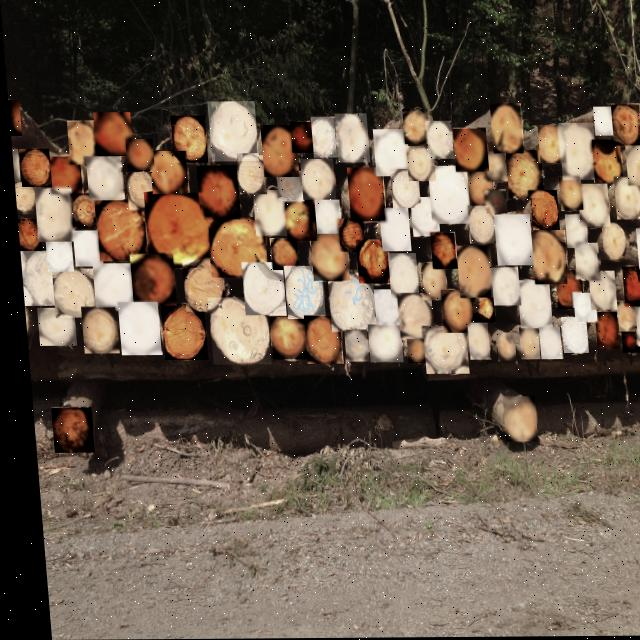wood-log: (143, 194, 208, 267), (205, 298, 264, 365), (206, 218, 263, 278), (94, 200, 142, 261), (207, 102, 255, 161), (324, 274, 370, 332), (426, 167, 469, 224), (157, 304, 200, 360), (238, 263, 280, 316), (127, 255, 170, 306), (114, 302, 155, 355), (196, 167, 235, 220), (180, 260, 219, 312), (49, 269, 91, 317), (33, 189, 71, 242), (418, 327, 461, 373), (281, 266, 318, 319), (18, 251, 53, 306), (491, 215, 528, 266), (560, 124, 593, 181), (346, 169, 381, 221), (453, 246, 488, 298), (89, 264, 128, 310), (529, 231, 562, 285), (46, 408, 86, 452), (260, 126, 294, 177), (307, 234, 344, 280), (170, 116, 205, 163), (301, 317, 336, 364), (505, 151, 539, 199), (393, 294, 427, 341), (372, 130, 406, 177), (78, 308, 112, 354), (93, 113, 130, 155), (513, 282, 546, 329), (489, 104, 520, 154), (148, 151, 184, 194), (251, 191, 284, 236), (497, 397, 530, 442), (265, 318, 301, 359), (85, 157, 119, 200), (336, 115, 366, 163), (353, 241, 386, 283), (33, 308, 69, 346), (452, 130, 484, 172), (437, 290, 468, 333), (299, 159, 331, 200), (66, 122, 96, 165), (590, 141, 620, 184), (575, 186, 606, 227), (385, 254, 413, 299), (377, 209, 406, 252), (363, 325, 395, 362), (283, 201, 312, 241), (18, 149, 48, 187), (49, 157, 78, 196), (527, 191, 555, 231), (611, 179, 639, 219), (610, 106, 638, 146), (236, 156, 263, 195), (389, 170, 416, 209), (69, 231, 98, 267), (124, 173, 153, 209), (408, 198, 435, 236), (310, 119, 336, 158), (488, 269, 515, 306), (585, 273, 611, 311), (404, 147, 432, 182), (425, 121, 450, 159), (552, 271, 577, 309), (537, 126, 562, 164), (69, 194, 96, 229), (556, 318, 582, 354), (466, 207, 491, 244), (599, 224, 623, 262), (370, 290, 395, 326), (427, 234, 452, 270), (418, 264, 442, 301), (401, 110, 426, 145), (335, 219, 361, 252), (590, 313, 613, 350), (465, 172, 490, 206), (571, 244, 594, 280), (619, 268, 640, 307), (313, 200, 337, 234), (124, 140, 151, 170), (267, 240, 294, 270), (42, 242, 69, 271), (556, 177, 579, 211), (463, 323, 484, 360), (274, 172, 300, 201), (15, 219, 37, 251), (534, 328, 556, 360), (562, 216, 583, 249), (340, 331, 362, 362), (289, 123, 311, 153), (13, 183, 34, 213), (514, 328, 533, 360), (625, 146, 640, 186), (569, 295, 591, 322), (484, 152, 503, 181), (468, 297, 489, 322), (612, 303, 629, 333), (593, 108, 611, 136), (492, 334, 510, 361), (7, 100, 20, 135), (483, 192, 503, 214), (401, 341, 419, 363), (631, 301, 640, 345), (617, 331, 634, 353), (633, 230, 640, 270), (10, 149, 18, 182)
